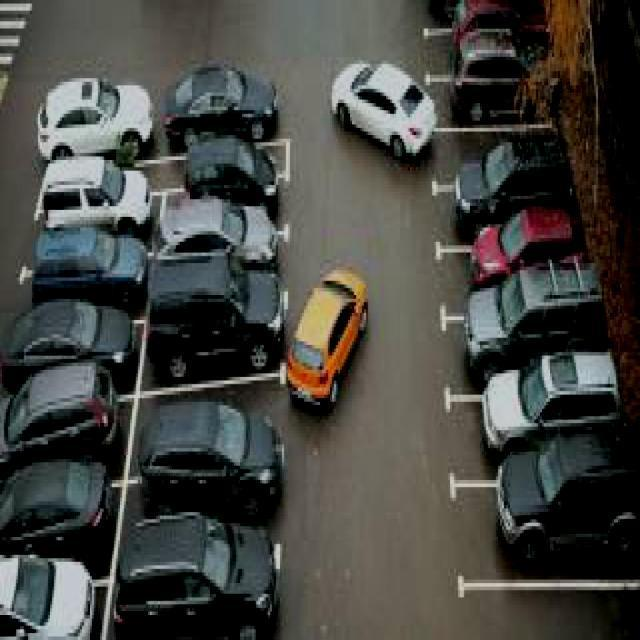space-empty: (140, 363, 280, 456)
space-occupied: (454, 471, 632, 589), (126, 534, 281, 637), (127, 438, 277, 534), (449, 382, 615, 460), (10, 311, 146, 404), (435, 302, 600, 377), (20, 240, 155, 326), (5, 390, 140, 475), (155, 283, 283, 372), (7, 461, 115, 561), (433, 238, 573, 306), (431, 172, 571, 240), (38, 178, 154, 256), (153, 217, 285, 285), (426, 66, 564, 130), (416, 120, 562, 180), (0, 557, 108, 635), (173, 169, 291, 229), (418, 16, 553, 66)
